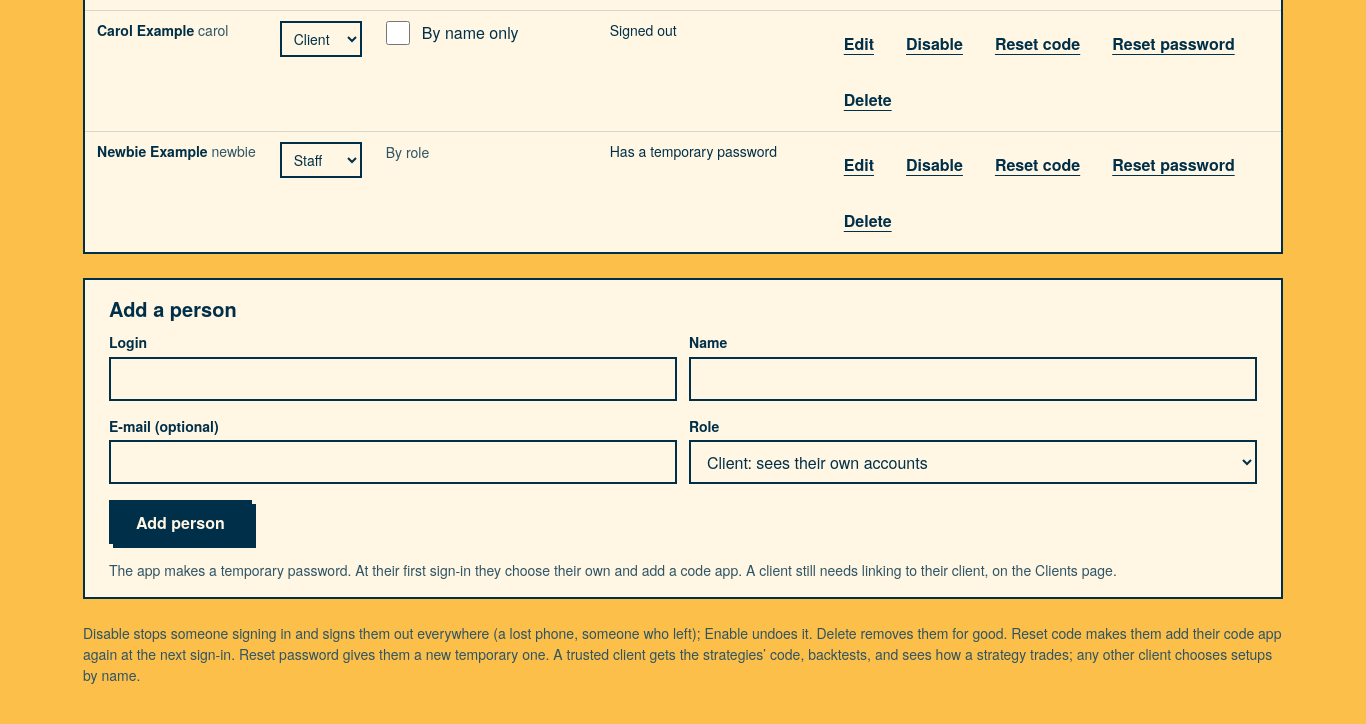
Test case: People › adds a person with a temporary password the app makes, and shows it once to hand over
(page scrolled)
Type "dana" into the field labelled "Login" at (393,379), box x1=109 y1=357 x2=677 y2=401
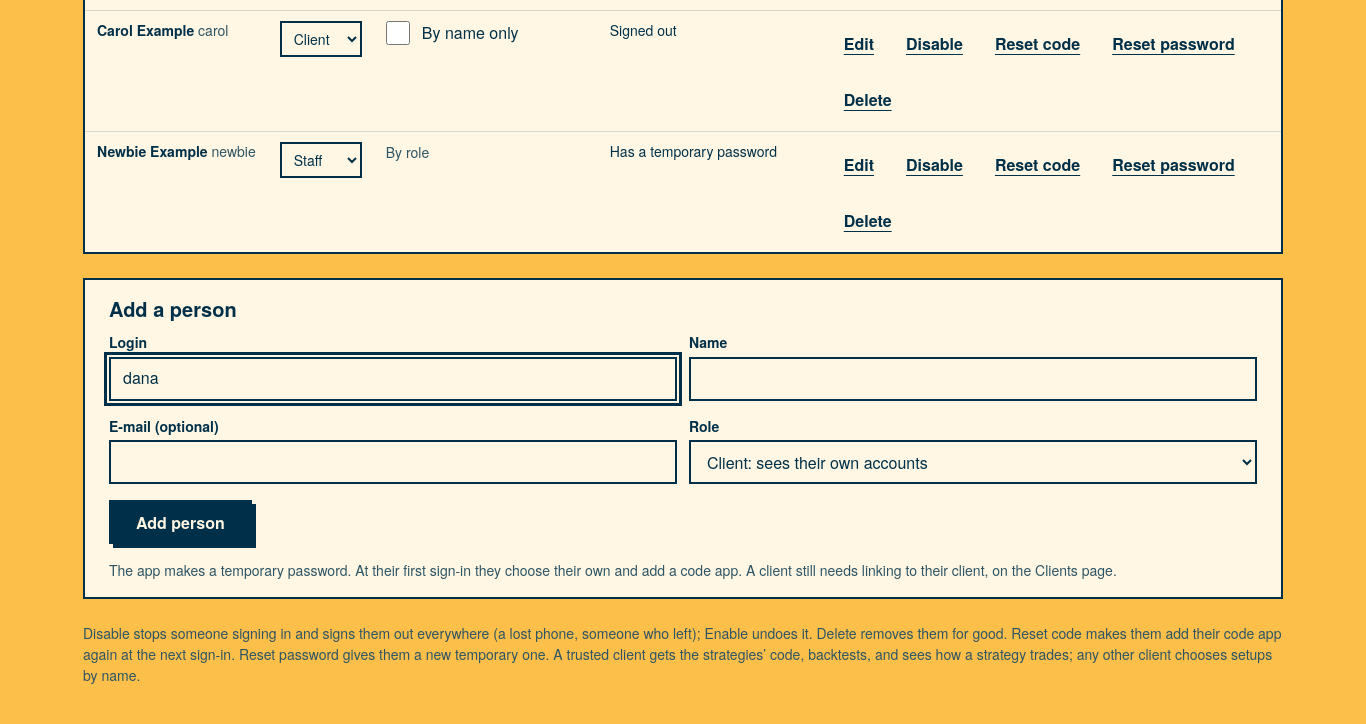
Type "Dana Example" into the field labelled "Name" at (973,379), box x1=689 y1=357 x2=1257 y2=401
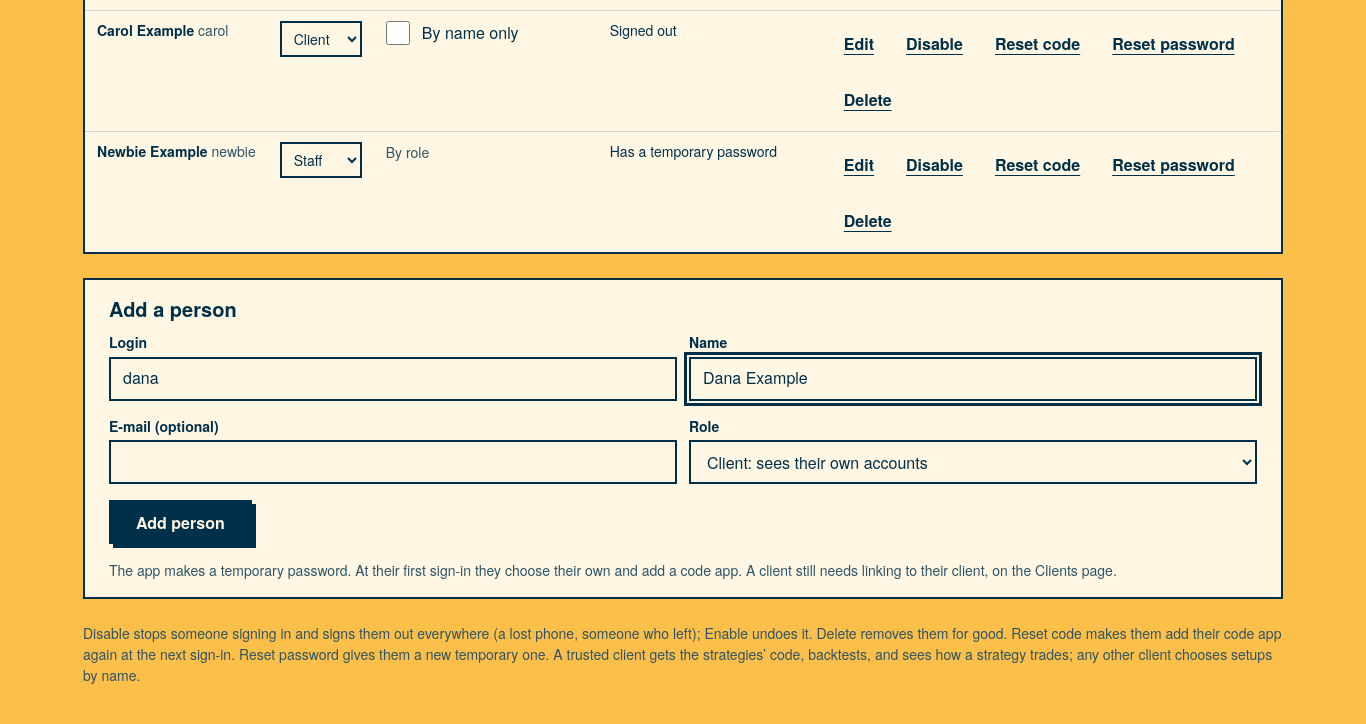
Click the button "Add person" at (180,522), box x1=109 y1=500 x2=252 y2=544
(page scrolled)
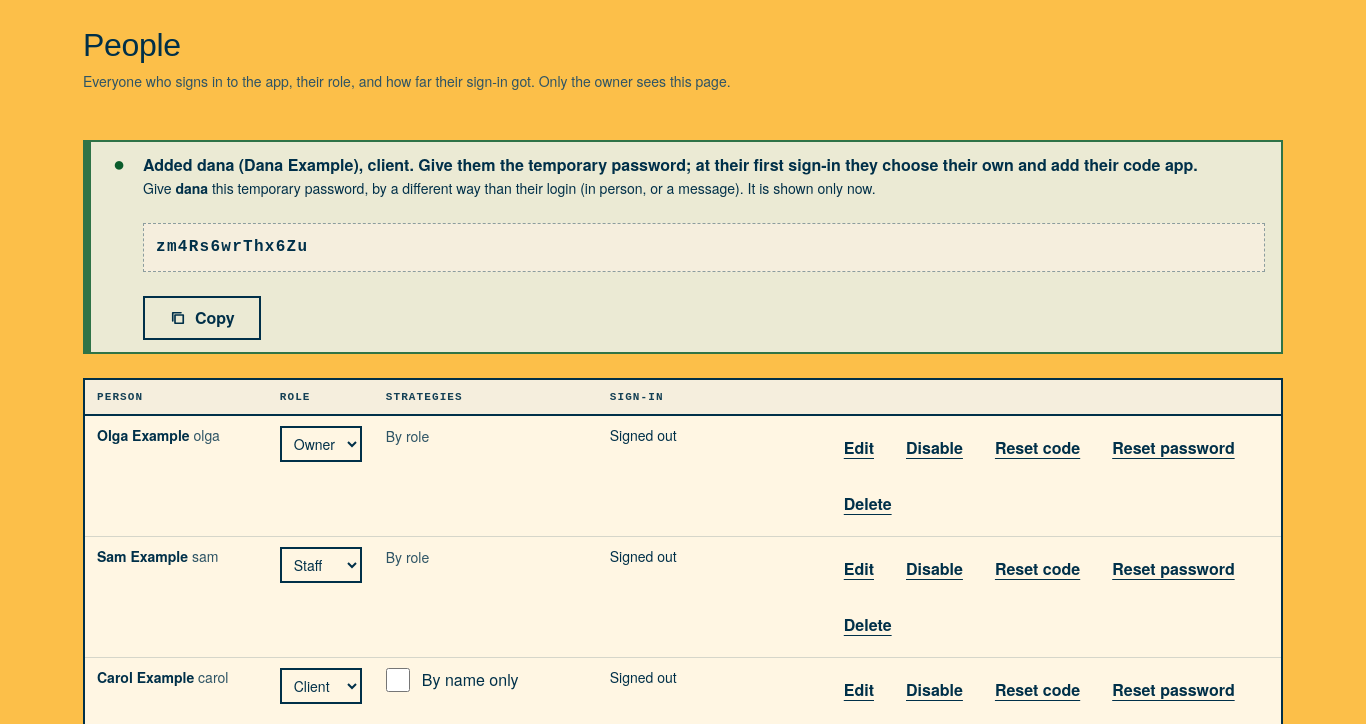
Expected: the text "Added dana (Dana Example), client." is shown, x1=143 y1=153 x2=1198 y2=176
